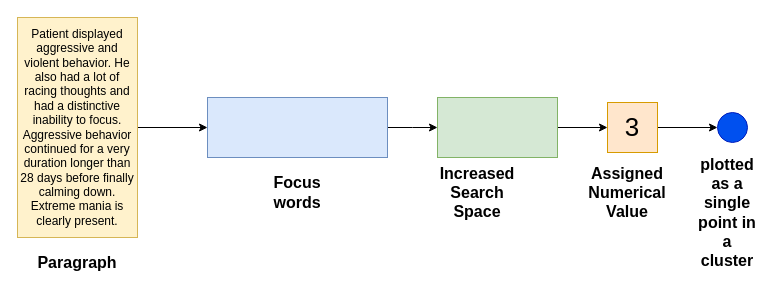
The diagram is 775 pixels wide and 295 high, and some of its shapes have lost their labels. Here are the shapes that lost their labels. From the top down, the centre of each, then its label:
At pixel 297 127: "Aggresive,violent,racing thoughts, lack of focus, extreme mania".
At pixel 497 127: "Increased Number of Words using synonyms".
